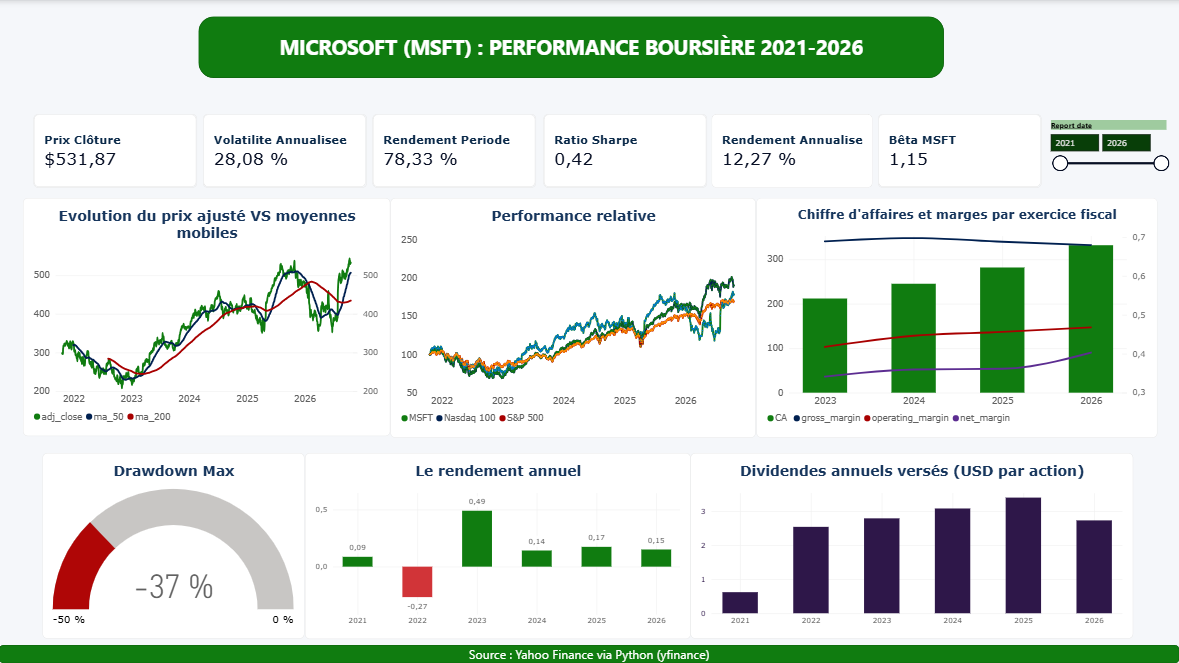

This screenshot's page, from the dashboard's own definition file:
{"tool":"powerbi","page":{"name":"1. Synthèse","canvas":[1920,1080],"ordinal":0},"visuals":[{"type":"cardVisual","fields":{"Data":["Daily.Prix Clôture"]},"box":[56.2,184.4,266,120],"z":0},{"type":"cardVisual","fields":{"Data":["Daily.Volatilite Annualisee"]},"box":[331.8,184.4,266.7,120],"z":1000},{"type":"cardVisual","fields":{"Data":["Daily.Ratio Sharpe"]},"box":[885.1,184.4,266,120],"z":2000},{"type":"cardVisual","fields":{"Data":["Daily.Rendement Periode"]},"box":[608.4,184.4,266,120],"z":3000},{"type":"lineChart","title":"Evolution du prix ajusté VS moyennes mobiles","fields":{"Category":["Dim_Date.Date"],"Y":["Sum(Daily.adj_close)"],"Y2":["Sum(Daily.ma_50)","Sum(Daily.ma_200)"]},"box":[39.7,322,597.5,387.5],"z":4000},{"type":"lineChart","title":"Performance relative","fields":{"Category":["Compare_Base100.Date"],"Y":["Sum(Compare_Base100.MSFT)","Sum(Compare_Base100.Nasdaq 100)","Sum(Compare_Base100.S&P 500)"]},"box":[637.7,322,594,390],"z":5000},{"type":"slicer","fields":{"Values":["Dim_Date.Year"]},"box":[1702.7,196,204,94],"z":6000},{"type":"cardVisual","fields":{"Data":["Daily.Rendement Annualise"]},"box":[1159.6,184.4,262.2,120],"z":7000},{"type":"gauge","fields":{"Y":["Daily.Drawdown Max"]},"box":[71.3,736,426,302],"z":9000},{"type":"cardVisual","fields":{"Data":["Benchmark_Stats.Bêta MSFT"]},"box":[1430.7,184.4,266,120],"z":10000},{"type":"shape","box":[325,26.1,1212.5,100],"z":11000},{"type":"shape","box":[0,1050,1920,30],"z":12000},{"type":"lineStackedColumnComboChart","title":"Le  rendement annuel","fields":{"Category":["Dim_Date.Year"],"Y":["Sum(Daily.simple_return)"]},"box":[497.3,736,627.5,302.5],"z":13000},{"type":"lineStackedColumnComboChart","title":"Chiffre d''affaires et marges par exercice fiscal","fields":{"Category":["Fundamentals.fiscal_year"],"Y":["Fundamentals.CA Md"],"Y2":["Sum(Fundamentals.gross_margin)","Sum(Fundamentals.operating_margin)","Sum(Fundamentals.net_margin)"]},"box":[1231.7,322,652,390],"z":14000},{"type":"lineClusteredColumnComboChart","title":"Dividendes annuels versés (USD par action)","fields":{"Category":["Dim_Date.Year"],"Y":["Sum(Dividends.dividends)"]},"box":[1125.3,736,720,302],"z":15000}]}

Visuals, with their boxes in screenshot pixels (x1, y1, x2, y2), scaled from the page's 1920x1080 canvas onto the 1179x663 screenshot:
cardVisual - Daily.Prix Clôture: l=35, t=113, r=198, b=187
cardVisual - Daily.Volatilite Annualisee: l=204, t=113, r=368, b=187
cardVisual - Daily.Ratio Sharpe: l=544, t=113, r=707, b=187
cardVisual - Daily.Rendement Periode: l=374, t=113, r=537, b=187
"Evolution du prix ajusté VS moyennes mobiles" lineChart: l=24, t=198, r=391, b=436
"Performance relative" lineChart: l=392, t=198, r=756, b=437
slicer - Dim_Date.Year: l=1046, t=120, r=1171, b=178
cardVisual - Daily.Rendement Annualise: l=712, t=113, r=873, b=187
gauge - Daily.Drawdown Max: l=44, t=452, r=305, b=637
cardVisual - Benchmark_Stats.Bêta MSFT: l=879, t=113, r=1042, b=187
shape: l=200, t=16, r=944, b=77
shape: l=0, t=645, r=1178, b=662
"Le  rendement annuel" lineStackedColumnComboChart: l=305, t=452, r=691, b=638
"Chiffre d''affaires et marges par exercice fiscal" lineStackedColumnComboChart: l=756, t=198, r=1157, b=437
"Dividendes annuels versés (USD par action)" lineClusteredColumnComboChart: l=691, t=452, r=1133, b=637
